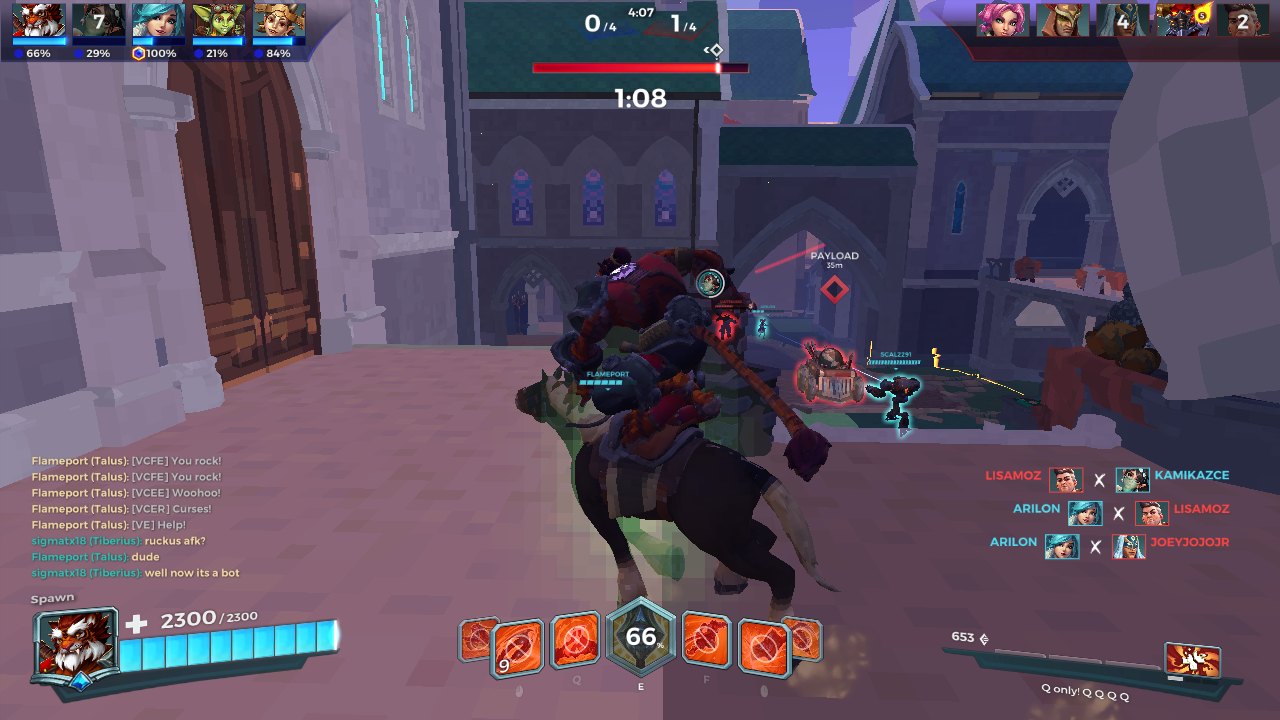model: (712, 303, 740, 343)
